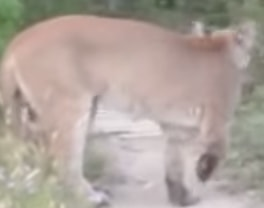Mountain Lion: (10, 7, 263, 202)
